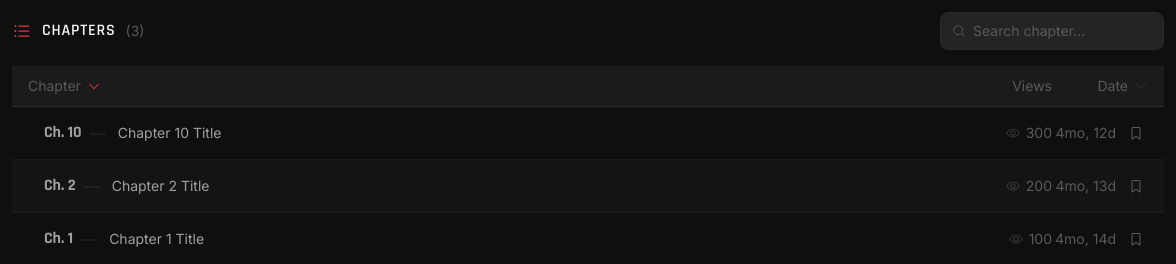
Test: ChapterList › shows "No chapters found" when search has no results
Type "999" into the field with placeholder "Search chapter...".
click(1052, 31); type("999")  # box [940,12,1164,50]
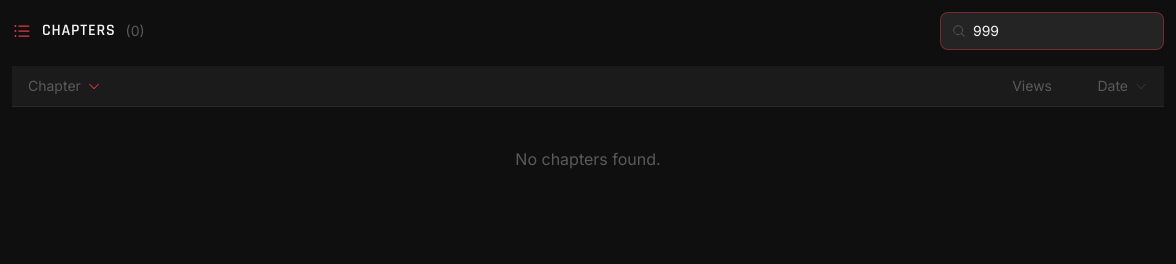
expect the text "No chapters found." is shown: met, box [515,149,661,169]
